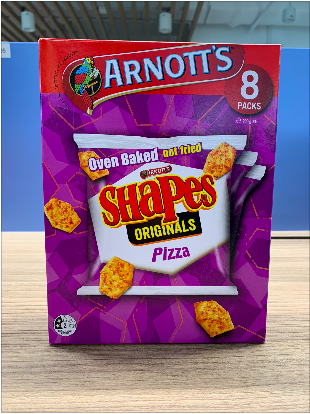Crackers_200-299g: (53, 57, 270, 336)
